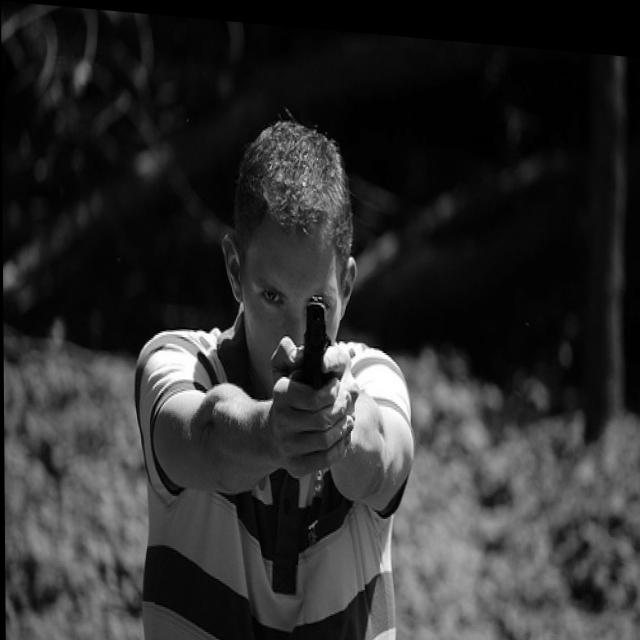handgun: (300, 283, 330, 387)
